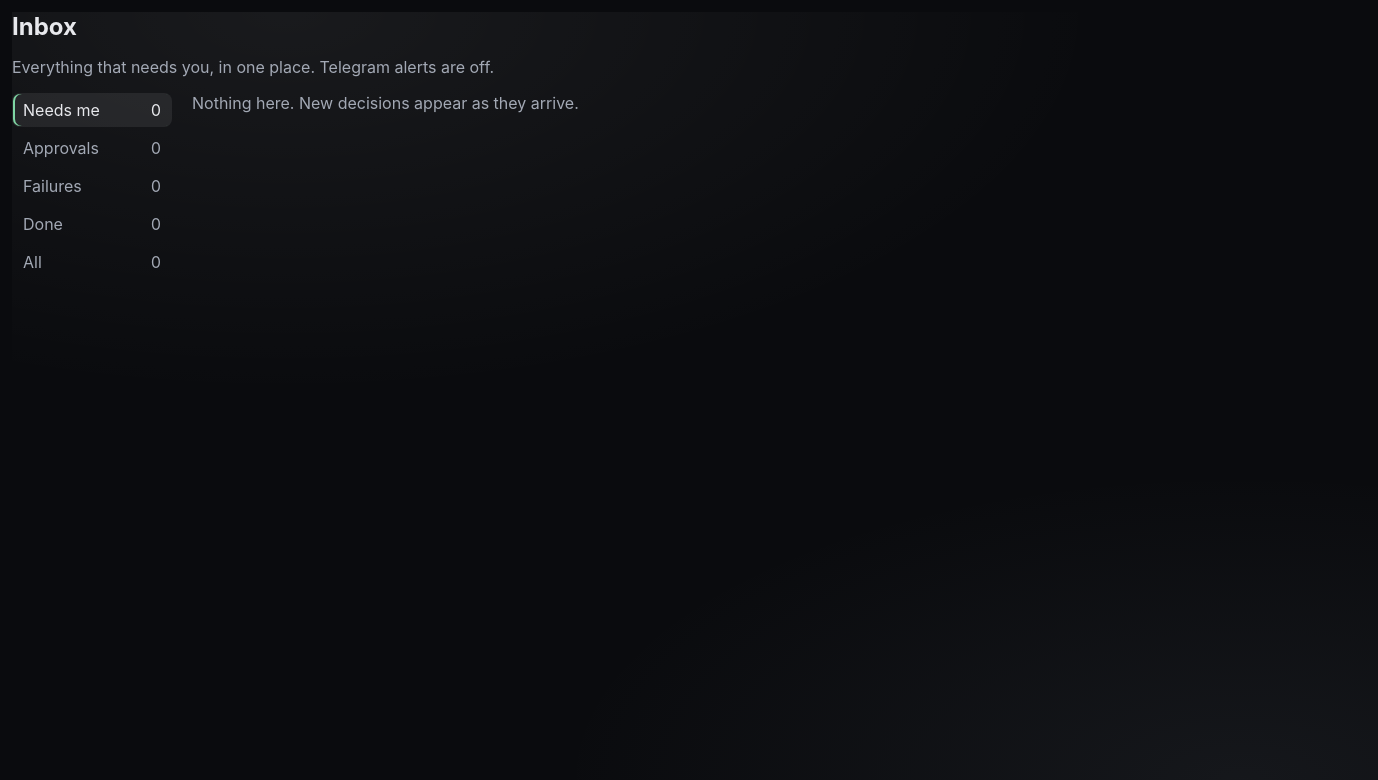
Inbox › shows an approval settled elsewhere as resolved, with no buttons to answer it again
Click the button "Done 0" at [92, 224], box [12,207,172,241]
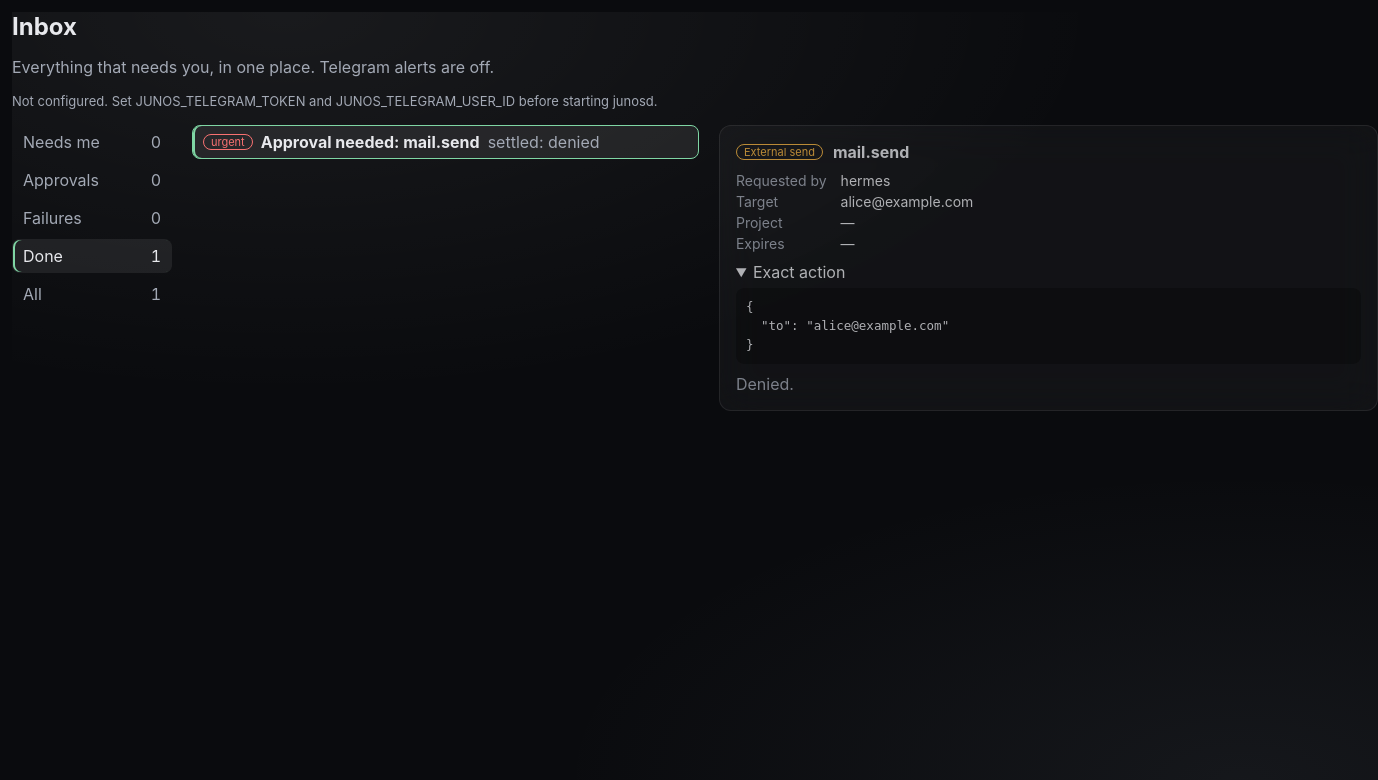
Expected: the message shows "Denied", [736,374,794,394]
